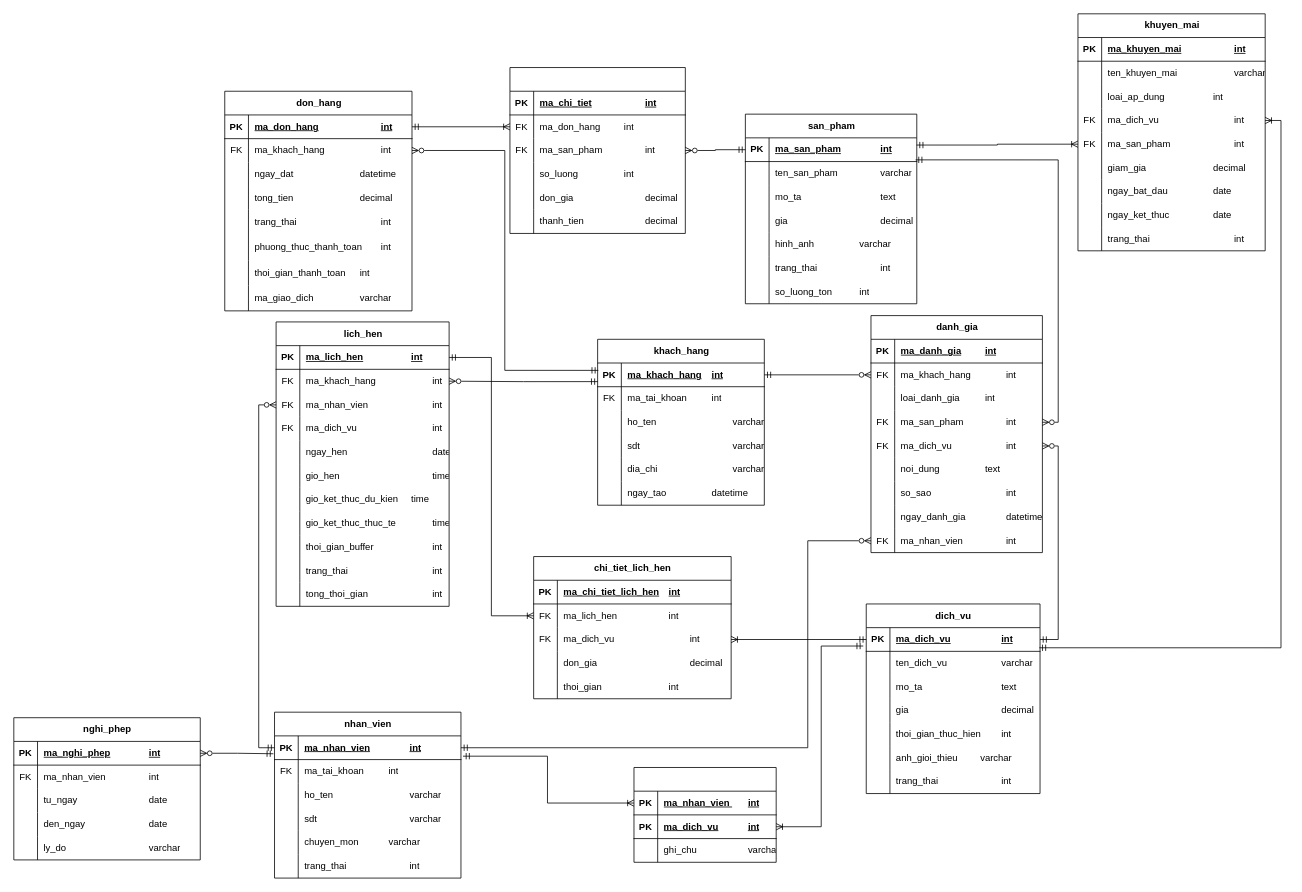
The diagram is 1302 pixels wide and 892 high, and some of its shapes have lost their labels. Here are the shapes that lost their labels. From the top down, the box of each, then its label:
(509, 67, 685, 233): chi_tiet_don_hang
(633, 767, 776, 862): chi_tiet_NVDV
